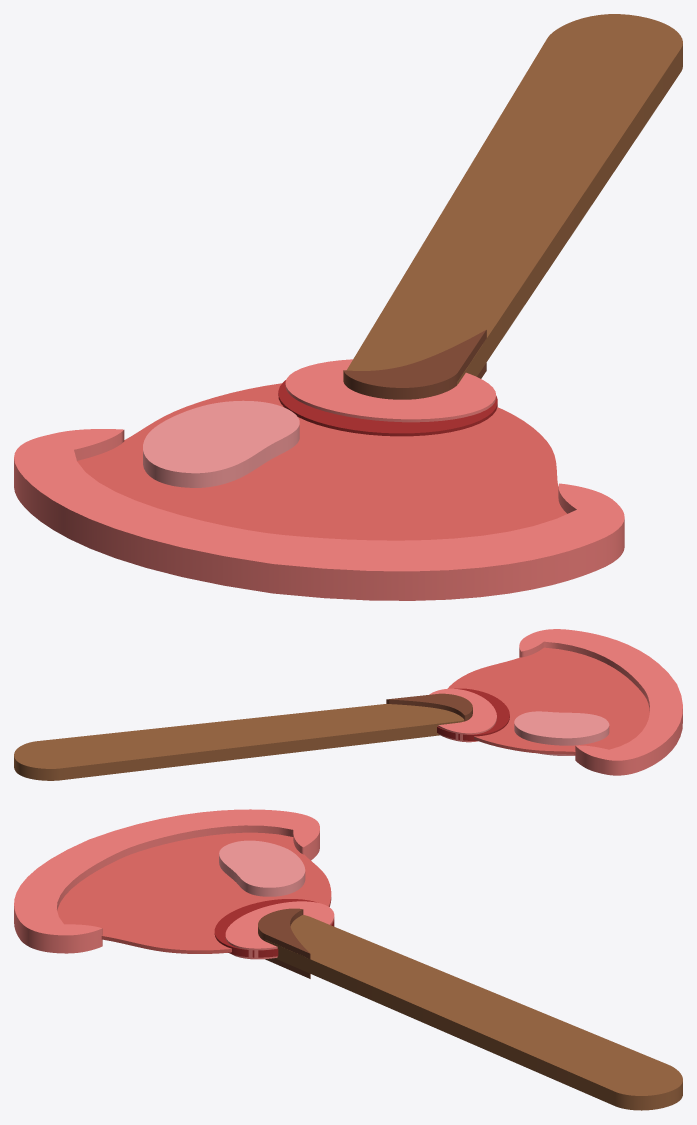
Rendered from emoji_u1faa0.glb.
3 renders of one model, top to bottom at view 1: azimuth 30°, elevation 25°; view 2: azimuth 150°, elevation 25°; view 3: azimuth 270°, elevation 25°, orthographic. The views are drawn at different scales.
Parts seen in each view (by area): view 1: emoji_u1faa0; view 2: emoji_u1faa0; view 3: emoji_u1faa0.
Boxes of the visible parts, x1,y1,x2,y2 form: emoji_u1faa0: (14, 14, 682, 600); emoji_u1faa0: (14, 629, 682, 780); emoji_u1faa0: (14, 809, 682, 1110).
Size of the model in its own units: 0.0338 by 0.0014 by 0.0335.
